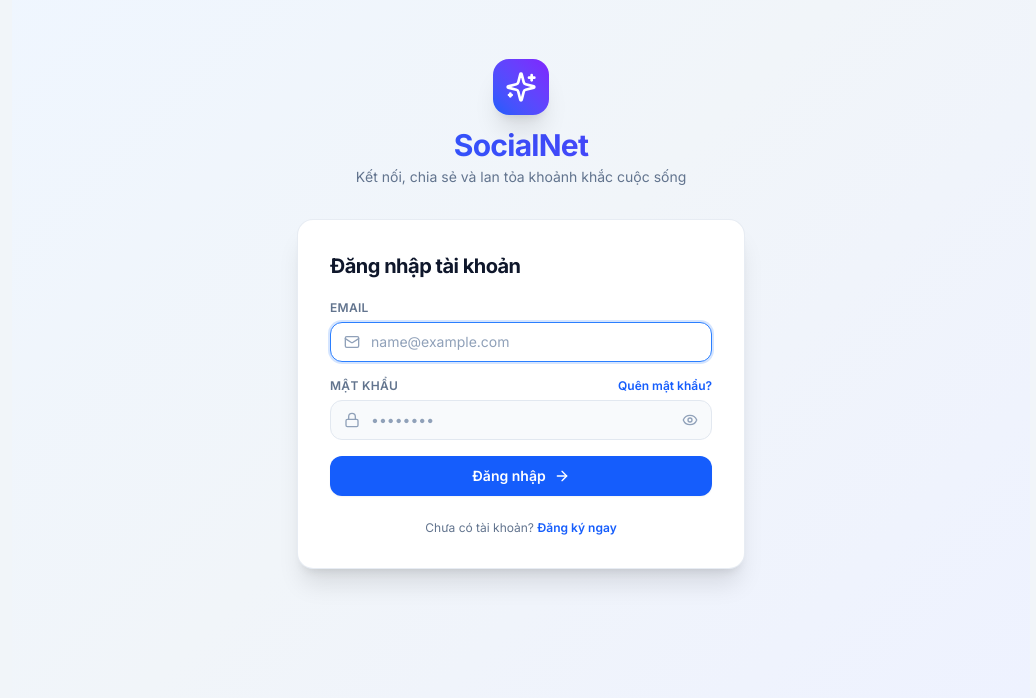
Đăng nhập › liên kết Đăng ký ngay
Click the link "Đăng ký ngay". click: (577, 528)
box: x1=537 y1=520 x2=617 y2=535
(page scrolled)
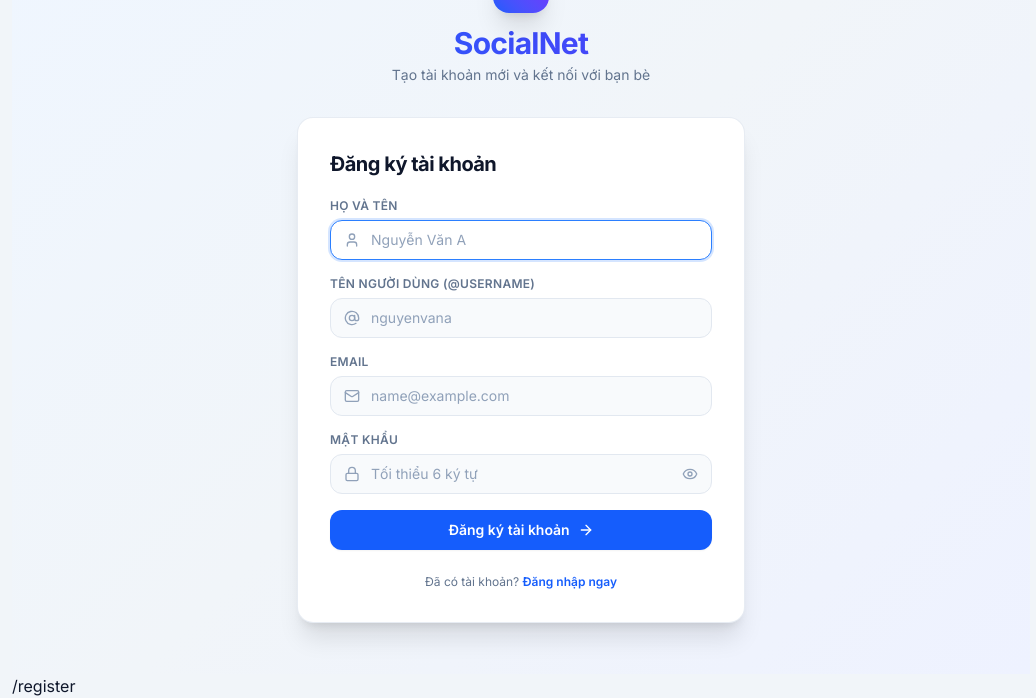
Result: the text with test id "location" reads "/register" at x1=12 y1=676 x2=75 y2=696
